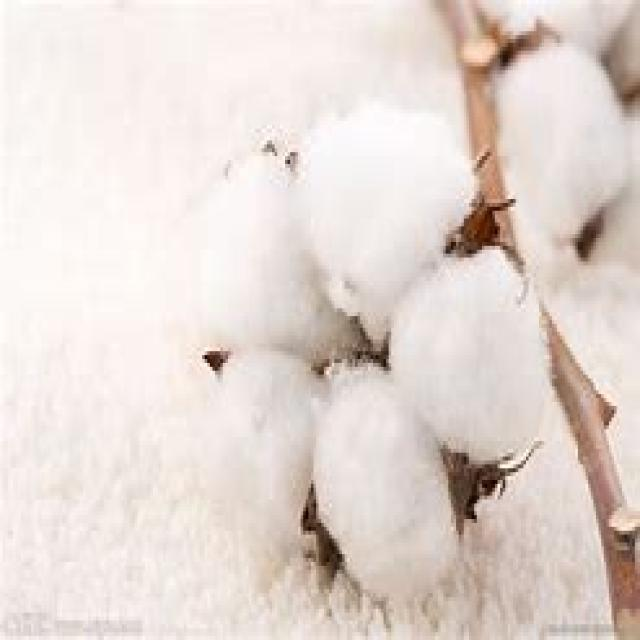Matured Cotton Boll: (181, 88, 559, 600)
